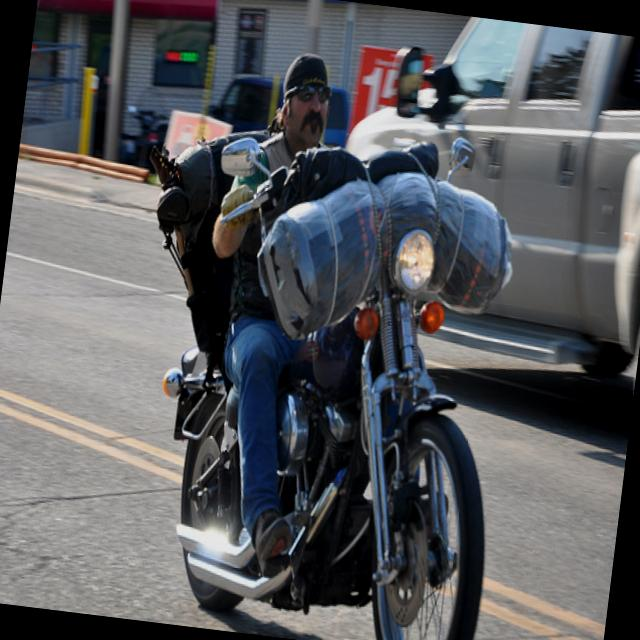Vehicle: (107, 115, 542, 640), (316, 3, 640, 428), (202, 68, 354, 150)
